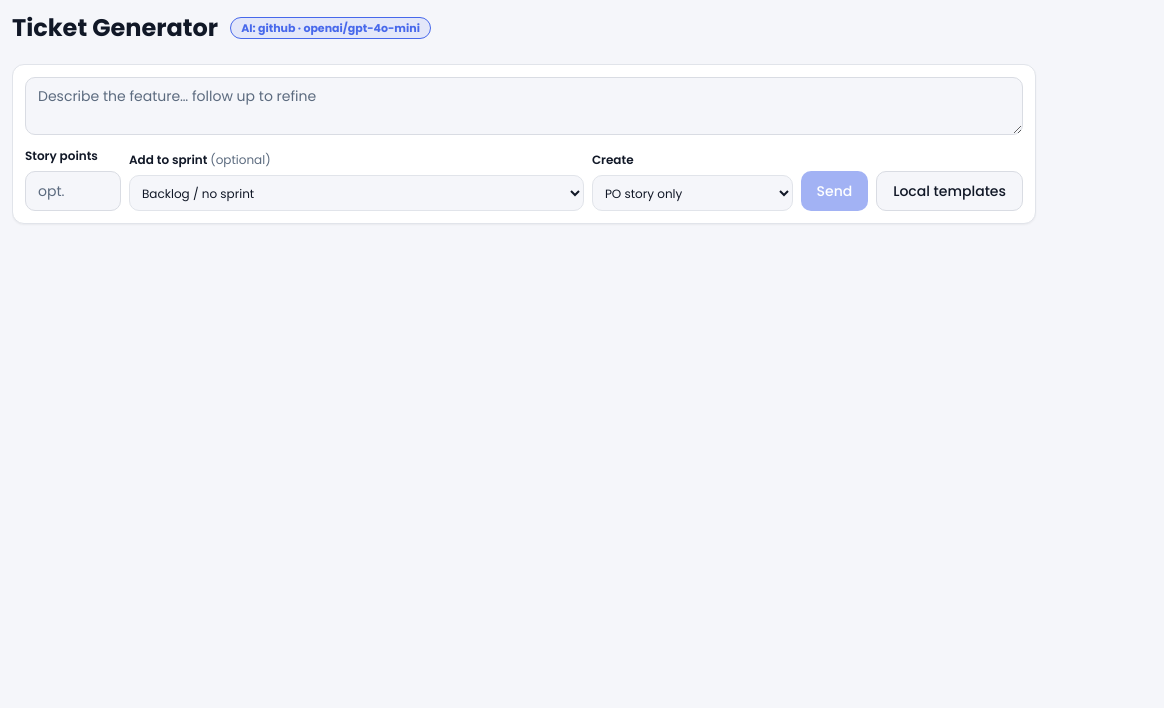
it: TicketGen › switches to fallback when AI_UNAVAILABLE on send
The width and height of the screenshot is (1164, 708).
Expected: the text "AI: github · openai/gpt-4o-mini" is shown, [230,17,431,39]
In the text box labelled "Describe the feature… follow up to refine": (524,106) [25,77,1023,135], type "New feature"
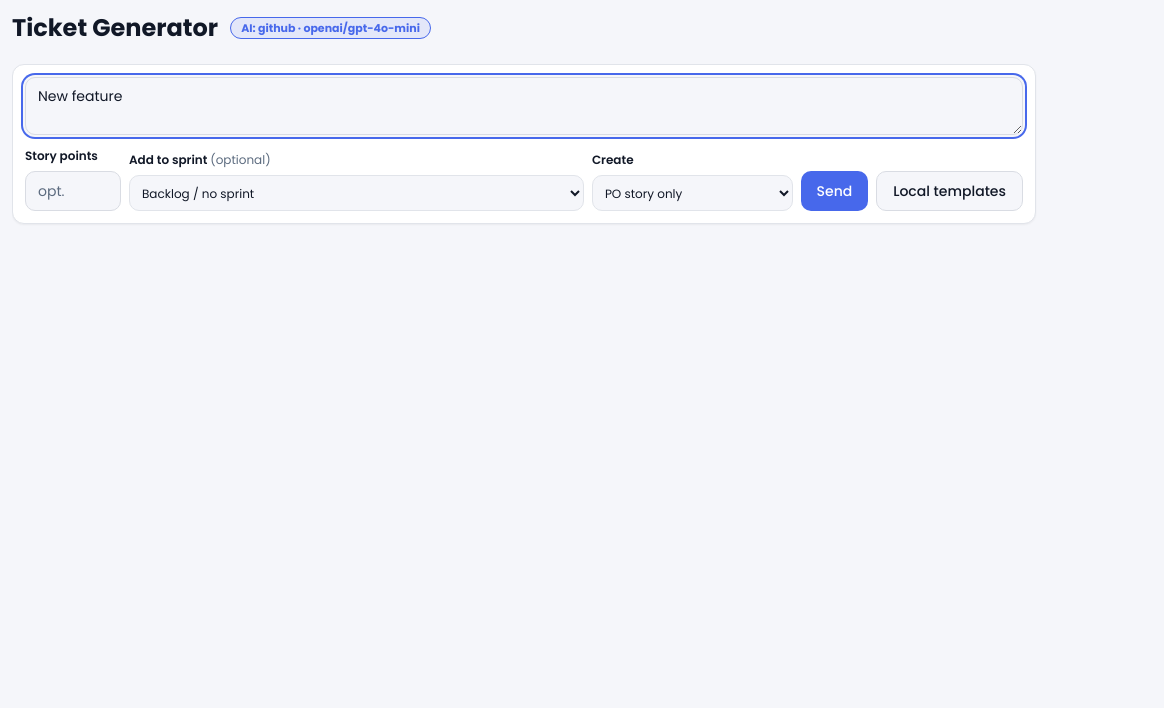
Click the button "Send": (834,191) [800,171,868,211]
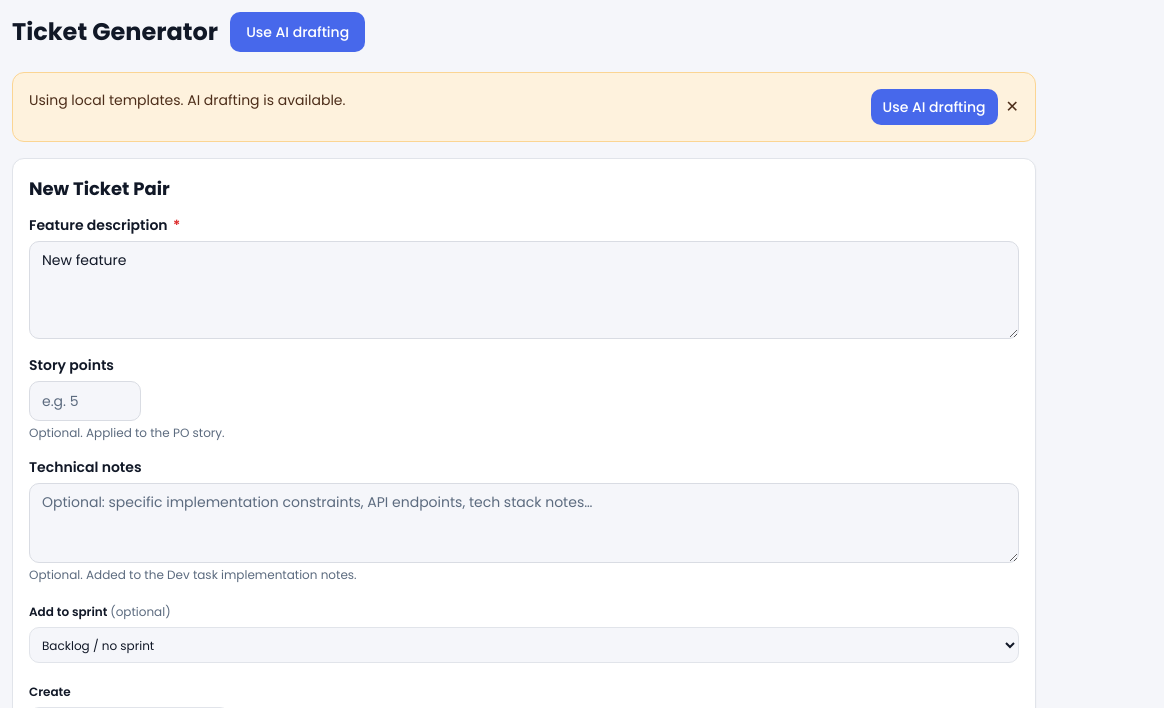
Now the text "Using local templates. AI drafting is available." is shown, box [29,90,346,110]
